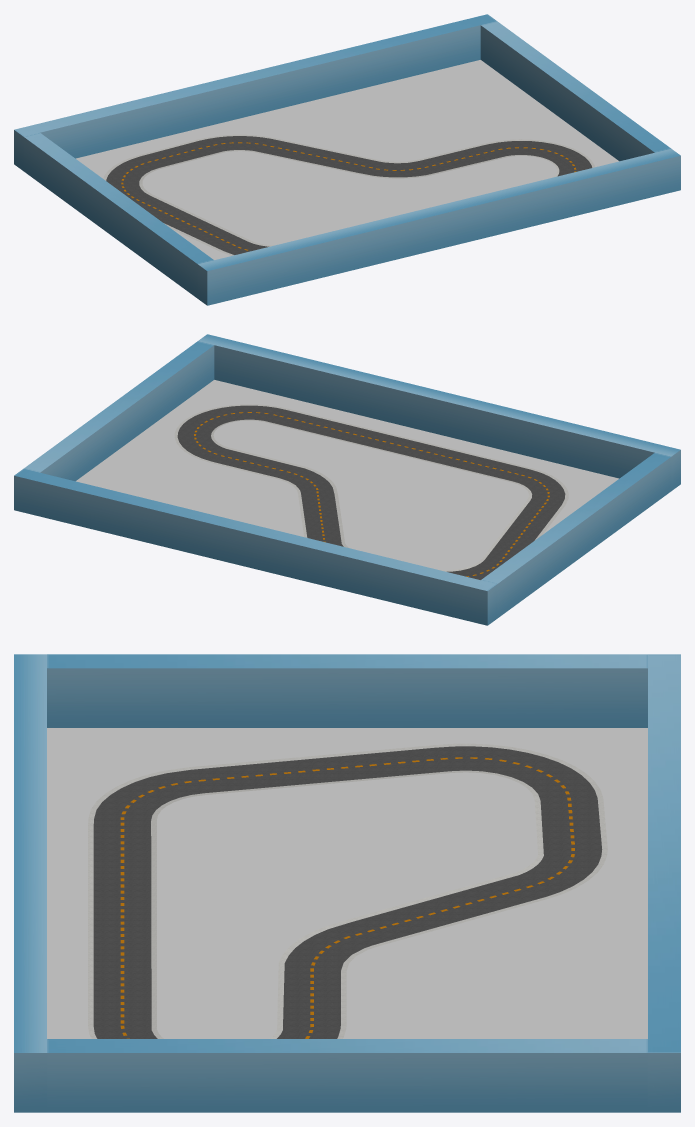
Rendered from Track3_and_Wall.dae.
The picture shows the model from 3 angles, top to bottom: view 1: azimuth 30°, elevation 25°; view 2: azimuth 150°, elevation 25°; view 3: azimuth 270°, elevation 25°; orthographic projection. The views are drawn at different scales.
Parts seen in each view (by area): view 1: field, bottomWall, topWall, Track1, leftWall, rightWall, whiteLines, dottedLine; view 2: field, topWall, bottomWall, Track1, leftWall, rightWall, whiteLines, dottedLine; view 3: field, leftWall, rightWall, Track1, bottomWall, topWall, whiteLines, dottedLine.
Boxes of the visible parts, left/top/right/bottom form: field: left=76, top=60, right=618, bottom=259; bottomWall: left=197, top=148, right=680, bottom=305; topWall: left=14, top=14, right=496, bottom=170; Track1: left=106, top=136, right=592, bottom=254; leftWall: left=23, top=132, right=213, bottom=298; rightWall: left=480, top=21, right=670, bottom=161; whiteLines: left=103, top=134, right=594, bottom=255; dottedLine: left=121, top=142, right=576, bottom=250; field: left=76, top=380, right=618, bottom=570; topWall: left=14, top=468, right=497, bottom=625; bottomWall: left=198, top=334, right=680, bottom=490; Track1: left=177, top=405, right=565, bottom=579; leftWall: left=481, top=452, right=671, bottom=618; rightWall: left=24, top=341, right=214, bottom=481; whiteLines: left=174, top=404, right=568, bottom=571; dottedLine: left=194, top=412, right=549, bottom=576; field: left=47, top=728, right=647, bottom=1038; leftWall: left=47, top=654, right=647, bottom=727; rightWall: left=47, top=1039, right=647, bottom=1112; Track1: left=93, top=746, right=602, bottom=1038; bottomWall: left=14, top=654, right=46, bottom=1112; topWall: left=648, top=654, right=680, bottom=1112; whiteLines: left=88, top=743, right=607, bottom=1038; dottedLine: left=120, top=757, right=574, bottom=1038.
Bounding box in the file's own units: 7.17 × 5.07 × 0.5.
